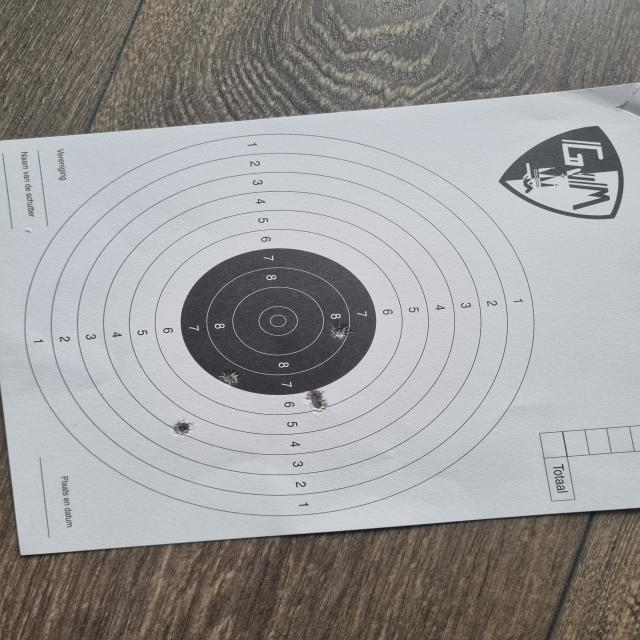5: (168, 422, 193, 435)
7: (307, 400, 328, 412), (305, 390, 327, 400)
8: (219, 370, 239, 388)
9: (331, 320, 354, 342)
Black Contour: (182, 247, 375, 396)
Target: (24, 131, 536, 517)
